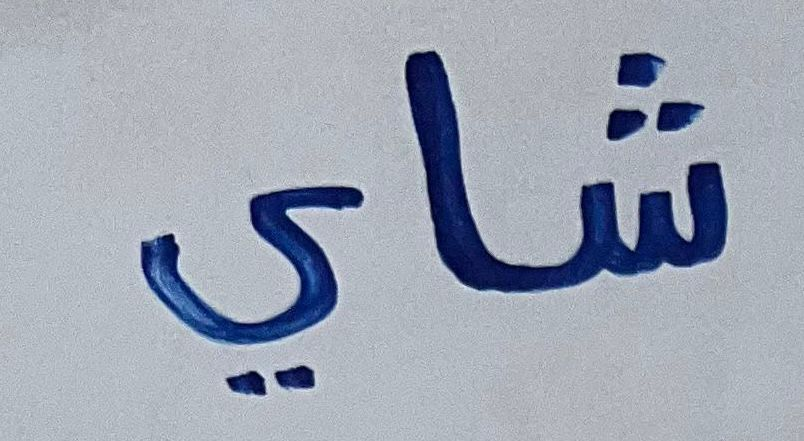alef: (391, 30, 512, 319)
sheen: (529, 29, 751, 319)
yeh: (106, 131, 383, 422)
